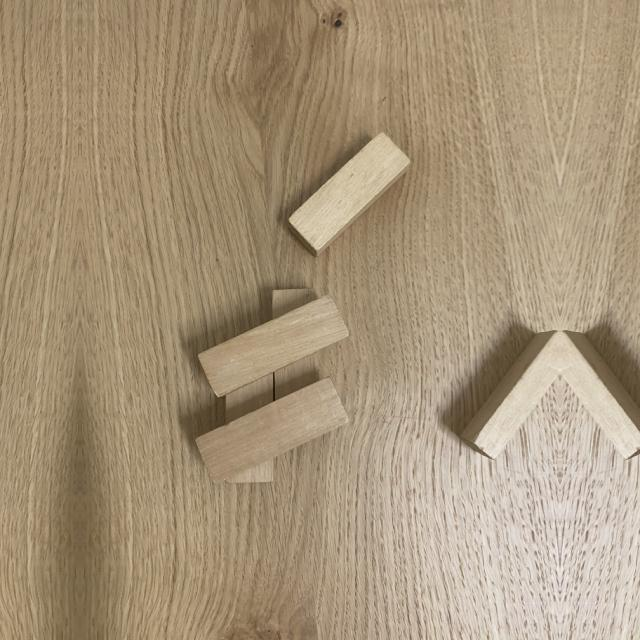jenga: (195, 372, 350, 485), (194, 376, 350, 484), (197, 294, 350, 398), (287, 131, 411, 258), (458, 330, 560, 461), (560, 330, 640, 461)
